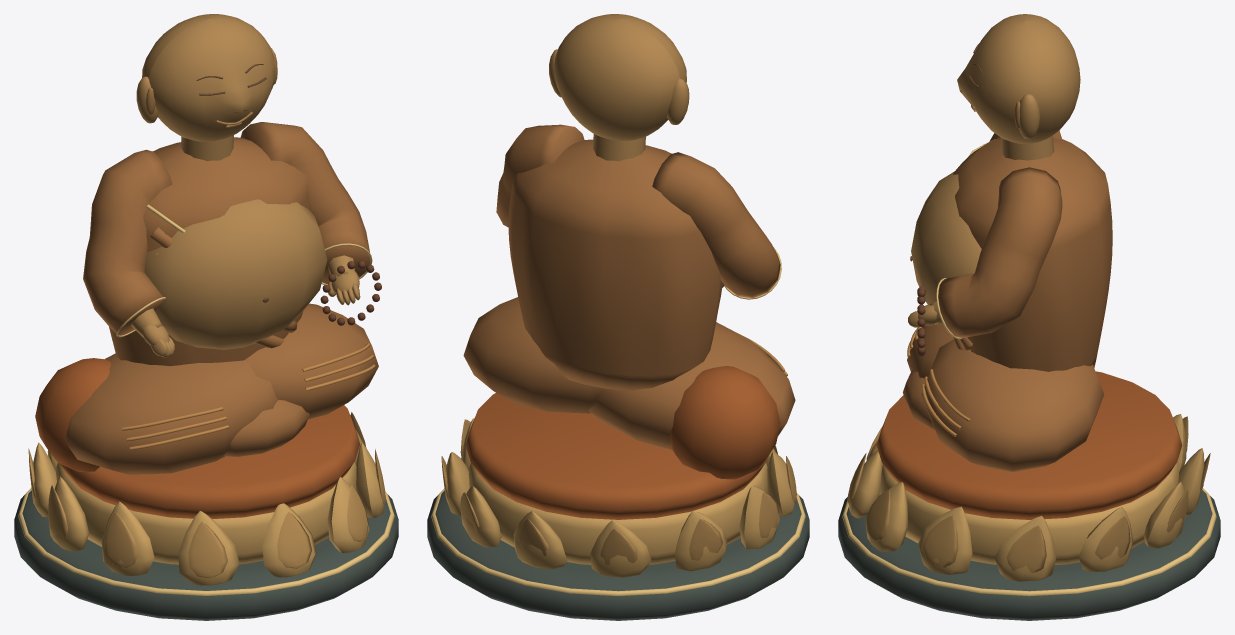
The model's file is arhat_18_lod1.glb.
The picture shows the model from 3 angles, left to right: view 1: azimuth 30°, elevation 25°; view 2: azimuth 150°, elevation 25°; view 3: azimuth 270°, elevation 25°; orthographic projection.
Parts seen in each view (by area): view 1: arhat_18_ArhatDrapery, arhat_18_WarmBronze, arhat_18_SaffronDrapery, arhat_18_AntiqueGold, arhat_18_CarvedPlinth, arhat_18_GoldPetalRelief, arhat_18_RaisedGoldBorders, arhat_18_DraperyFoldHighlights, arhat_18_PolishedPrayerBeads; view 2: arhat_18_ArhatDrapery, arhat_18_SaffronDrapery, arhat_18_CarvedPlinth, arhat_18_AntiqueGold, arhat_18_WarmBronze, arhat_18_GoldPetalRelief, arhat_18_RaisedGoldBorders; view 3: arhat_18_ArhatDrapery, arhat_18_SaffronDrapery, arhat_18_WarmBronze, arhat_18_CarvedPlinth, arhat_18_AntiqueGold, arhat_18_GoldPetalRelief, arhat_18_RaisedGoldBorders, arhat_18_DraperyFoldHighlights.
Boxes of the visible parts, box(x1,y1,x2,y2) form: arhat_18_ArhatDrapery: box(65, 122, 378, 474); arhat_18_WarmBronze: box(131, 14, 360, 357); arhat_18_SaffronDrapery: box(35, 358, 360, 518); arhat_18_AntiqueGold: box(31, 429, 385, 585); arhat_18_CarvedPlinth: box(14, 490, 398, 620); arhat_18_GoldPetalRelief: box(28, 412, 385, 578); arhat_18_RaisedGoldBorders: box(18, 204, 394, 595); arhat_18_DraperyFoldHighlights: box(121, 343, 375, 450); arhat_18_PolishedPrayerBeads: box(320, 260, 381, 325); arhat_18_ArhatDrapery: box(463, 124, 795, 449); arhat_18_SaffronDrapery: box(465, 366, 780, 519); arhat_18_CarvedPlinth: box(427, 490, 809, 620); arhat_18_AntiqueGold: box(444, 418, 796, 577); arhat_18_WarmBronze: box(549, 14, 724, 287); arhat_18_GoldPetalRelief: box(441, 419, 796, 565); arhat_18_RaisedGoldBorders: box(431, 247, 805, 596); arhat_18_ArhatDrapery: box(903, 130, 1112, 471); arhat_18_SaffronDrapery: box(876, 371, 1182, 519); arhat_18_WarmBronze: box(908, 14, 1080, 327); arhat_18_CarvedPlinth: box(838, 490, 1220, 620); arhat_18_AntiqueGold: box(848, 414, 1204, 581); arhat_18_GoldPetalRelief: box(847, 416, 1210, 573); arhat_18_RaisedGoldBorders: box(842, 139, 1216, 596); arhat_18_DraperyFoldHighlights: box(907, 326, 970, 436).
Size of the model in its own units: 0.92 by 1.39 by 0.92.
